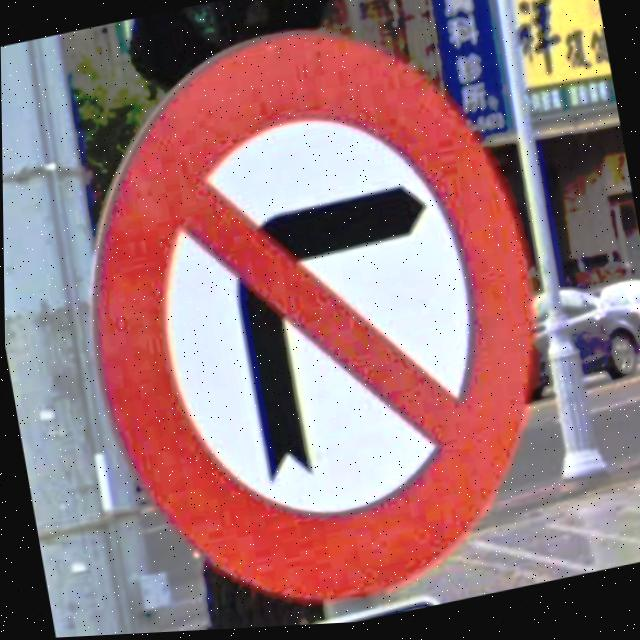noturnright: (92, 33, 537, 608)
